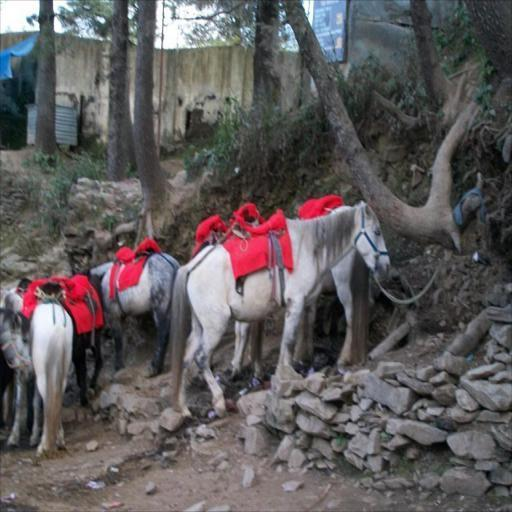horse: (0, 196, 391, 460), (168, 197, 392, 420), (249, 202, 357, 384), (226, 223, 317, 378), (84, 248, 184, 379), (0, 289, 76, 452), (62, 266, 107, 408), (0, 306, 32, 384)
